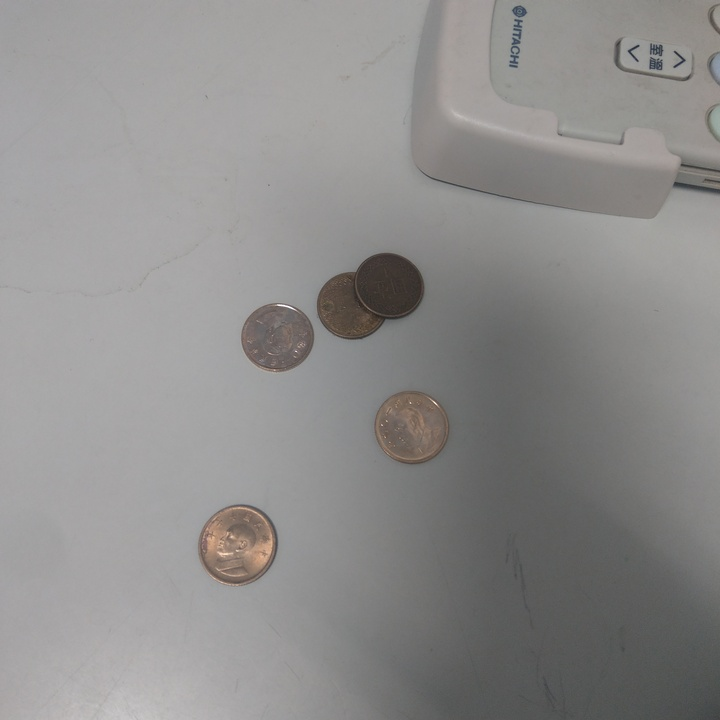1 dollar: (372, 387, 455, 469), (199, 501, 277, 584), (241, 301, 312, 375), (354, 252, 426, 320), (317, 272, 389, 340)
